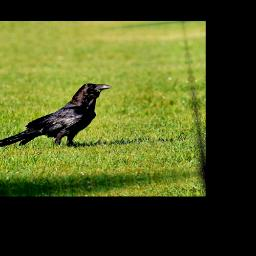Crow: (0, 79, 122, 156)
